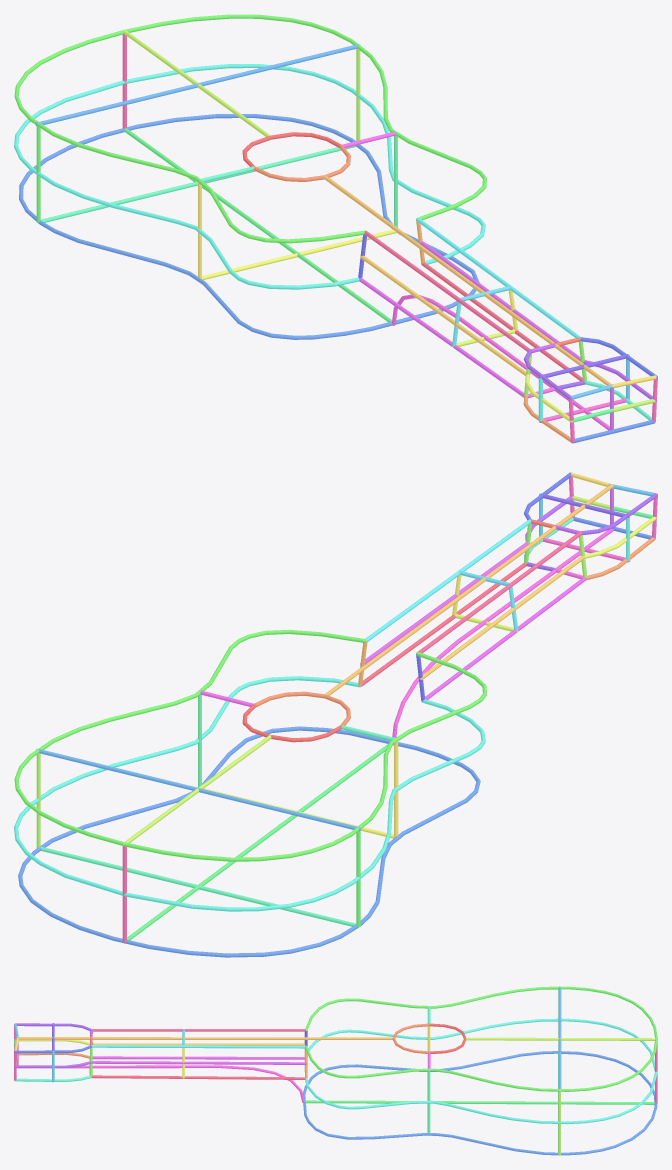
File: t2f_guitar.gltf
3 views of the same model, one above another, from view 1: azimuth 30°, elevation 25°; view 2: azimuth 150°, elevation 25°; view 3: azimuth 270°, elevation 25° (orthographic). The views are drawn at different scales.
Size of the model in its own units: 0.3568 by 0.1083 by 0.9336.
